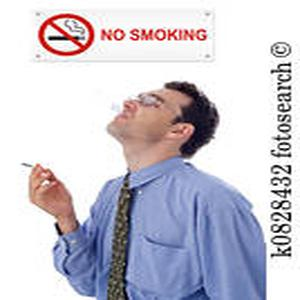cigarette: (21, 161, 37, 169)
